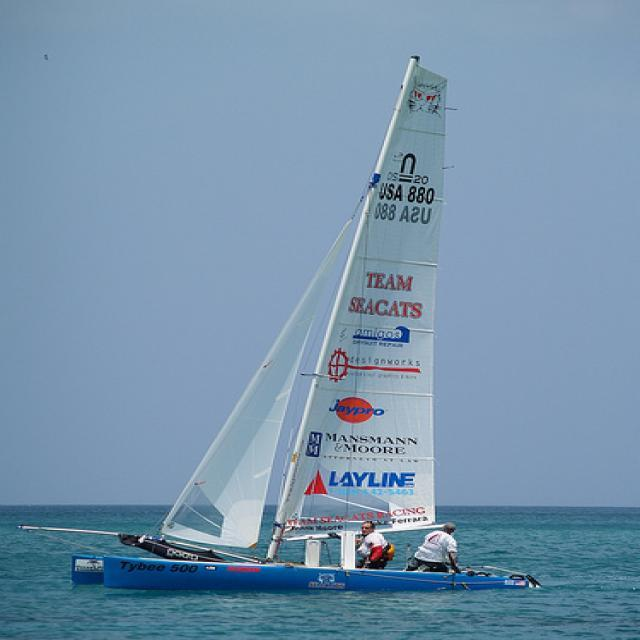Ship: (75, 48, 521, 590)
